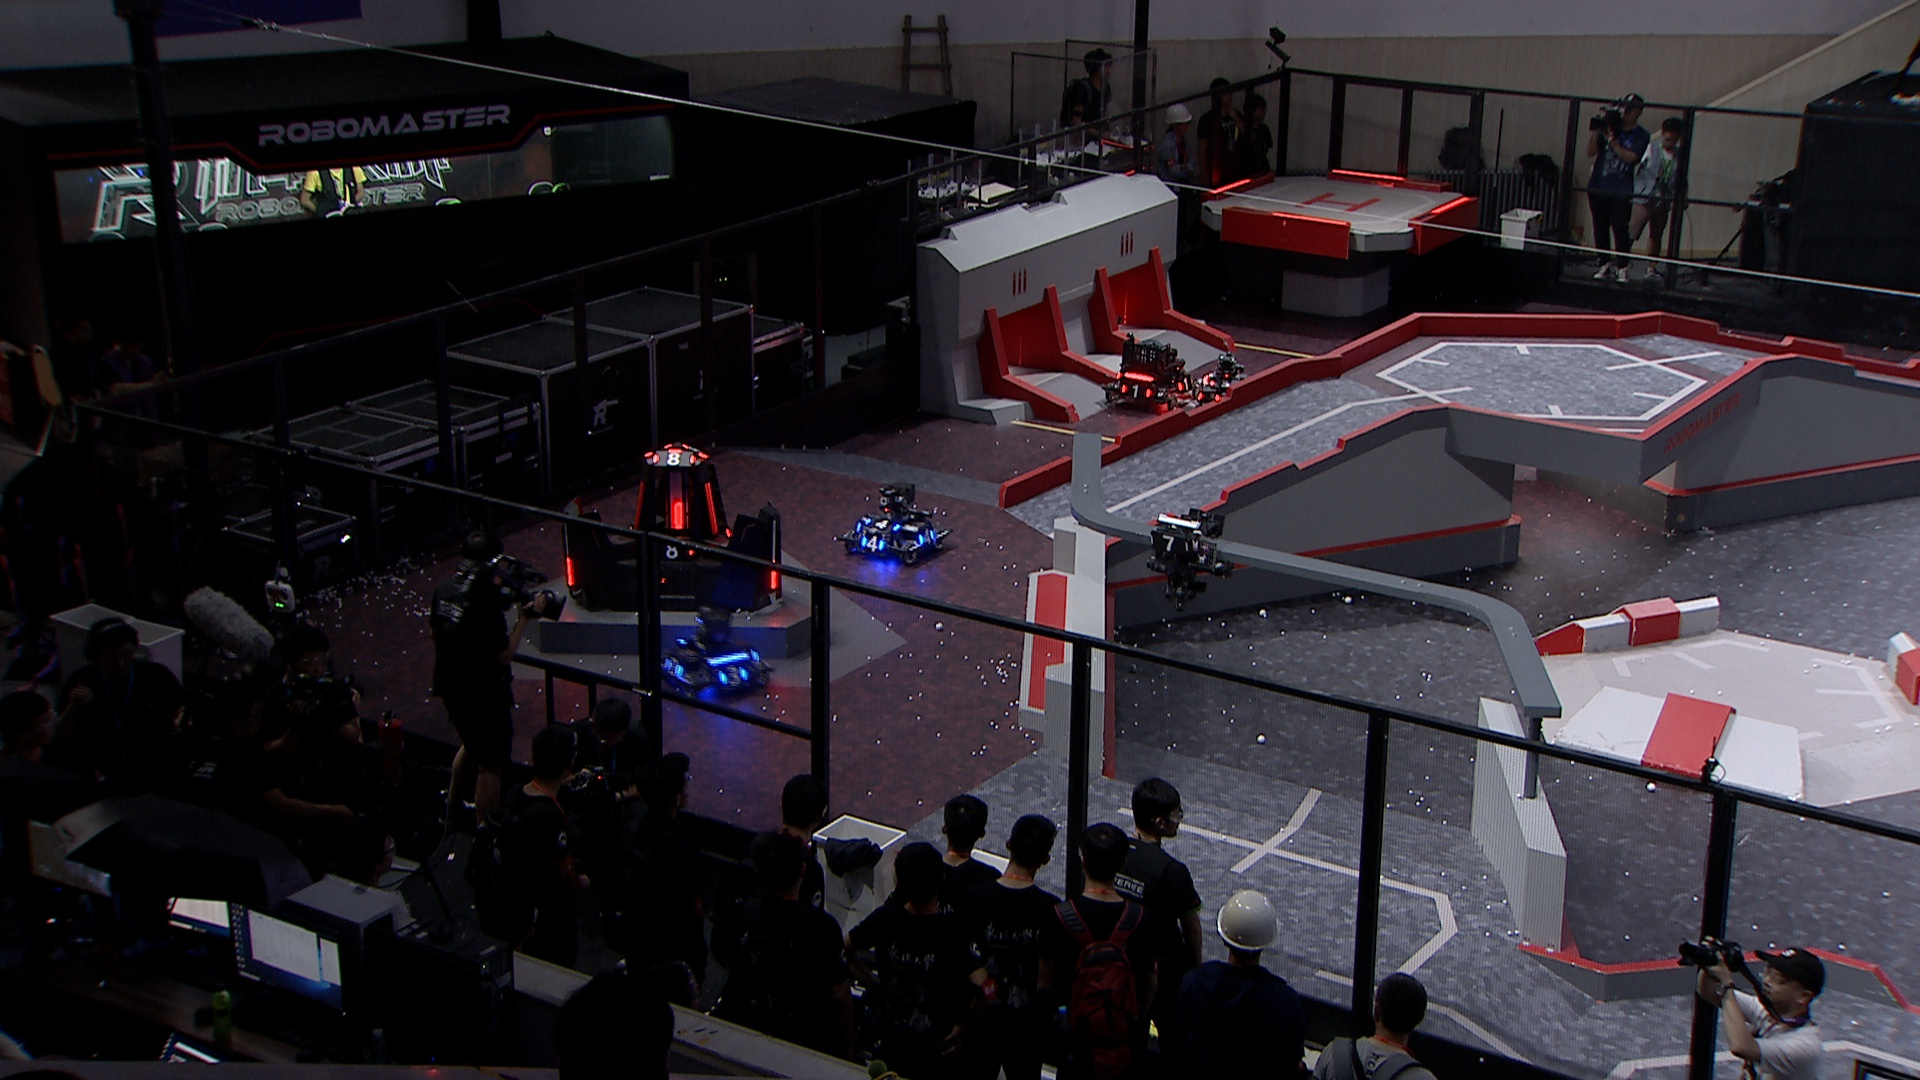armor: (700, 479, 719, 535), (1147, 531, 1189, 555), (647, 451, 699, 469), (629, 480, 647, 531), (713, 665, 752, 688), (659, 541, 695, 560), (1117, 381, 1153, 400), (666, 498, 686, 531), (659, 657, 686, 680), (858, 534, 887, 555), (865, 517, 903, 531), (562, 555, 576, 589), (1209, 377, 1238, 392), (916, 527, 936, 547), (1176, 373, 1195, 394), (766, 568, 781, 593)
base: (556, 443, 785, 615)
car: (651, 605, 775, 705), (835, 480, 951, 567), (1101, 334, 1197, 414), (1185, 352, 1251, 409)
watcher: (1139, 506, 1229, 612)
